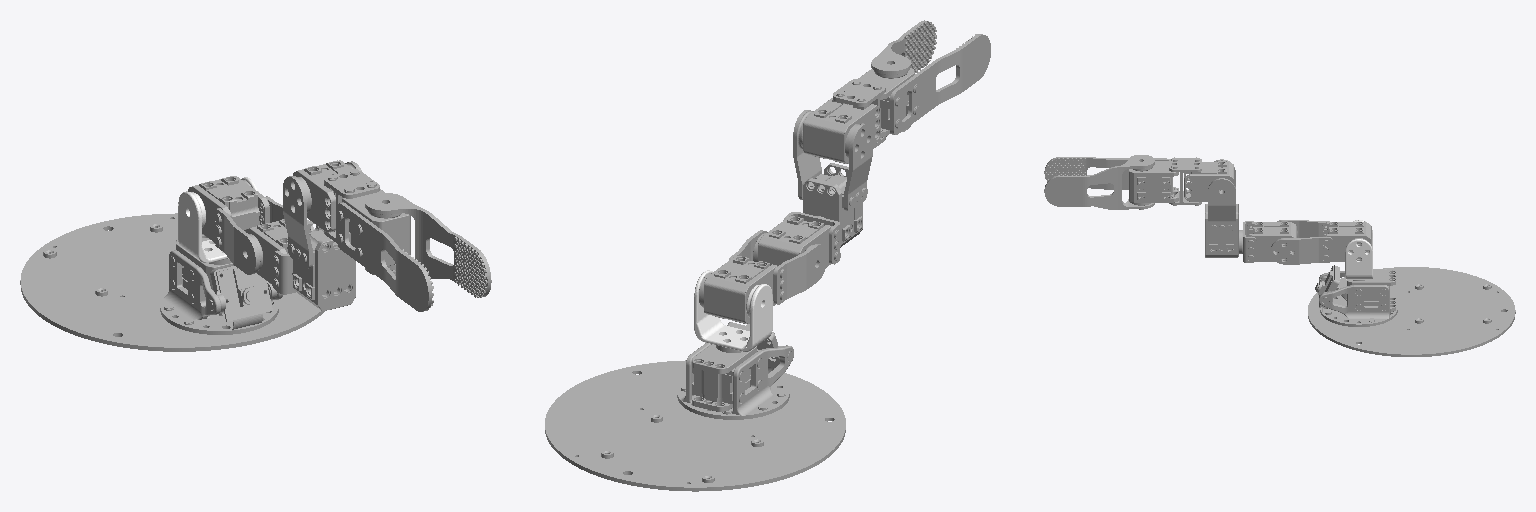
URDF robot description (PoppyErgoJr):
<robot
  name="PoppyErgoJr">
  <link
    name="base_link">
    <visual>
      <origin
        xyz="0 0 0"
        rpy="0 0 0" />
      <geometry>
        <mesh
          filename="package://poppy_ergo_jr_description/meshes/base.dae" />
      </geometry>
      <material
        name="">
        <color
          rgba="0.752941176470588 0.752941176470588 0.752941176470588 1" />
      </material>
    </visual>
    <collision>
      <origin
        xyz="0 0 0"
        rpy="0 0 0" />
      <geometry>
        <mesh
          filename="package://poppy_ergo_jr_description/meshes/base.dae" />
      </geometry>
    </collision>
  </link>
  <link
    name="long_U">
    <inertial>
      <origin
        xyz="-0.00243058056226709 1.14505937431452E-07 0.0129312523306501"
        rpy="0 0 0" />
      <mass
        value="0.0042118228619085" />
      <inertia
        ixx="5.78707668456099E-07"
        ixy="9.44283869977724E-12"
        ixz="-1.13587476220175E-07"
        iyy="1.25420346852677E-06"
        iyz="4.64830147251523E-12"
        izz="9.27174545760678E-07" />
    </inertial>
    <visual>
      <origin
        xyz="0 0 0"
        rpy="0 0 0" />
      <geometry>
        <mesh
          filename="package://poppy_ergo_jr_description/meshes/long_U.dae" />
      </geometry>
      <material
        name="">
        <color
          rgba="1 1 1 1" />
      </material>
    </visual>
    <collision>
      <origin
        xyz="0 0 0"
        rpy="0 0 0" />
      <geometry>
        <mesh
          filename="package://poppy_ergo_jr_description/meshes/long_U.dae" />
      </geometry>
    </collision>
  </link>
  <joint
    name="m1"
    type="continuous">
    <origin
      xyz="0 0 0.0327993216120967"
      rpy="-6.12303176911189E-17 0 0" />
    <parent
      link="base_link" />
    <child
      link="long_U" />
    <axis
      xyz="0 0 1" />
  </joint>
  <link
    name="section_1">
    <inertial>
      <origin
        xyz="-0.000168296047337745 0.013441283142678 -3.36410230095056E-09"
        rpy="0 0 0" />
      <mass
        value="0.0201321844066136" />
      <inertia
        ixx="6.51960684491032E-06"
        ixy="-5.35361387413197E-07"
        ixz="-5.67167110473808E-13"
        iyy="2.37206686086462E-06"
        iyz="-1.07202400036876E-12"
        izz="7.46616268702629E-06" />
    </inertial>
    <visual>
      <origin
        xyz="0 0 0"
        rpy="0 0 0" />
      <geometry>
        <mesh
          filename="package://poppy_ergo_jr_description/meshes/section_1.dae" />
      </geometry>
      <material
        name="">
        <color
          rgba="0.752941176470588 0.752941176470588 0.752941176470588 1" />
      </material>
    </visual>
    <collision>
      <origin
        xyz="0 0 0"
        rpy="0 0 0" />
      <geometry>
        <mesh
          filename="package://poppy_ergo_jr_description/meshes/section_1.dae" />
      </geometry>
    </collision>
  </link>
  <joint
    name="m2"
    type="continuous">
    <origin
      xyz="0 0 0.0240006783879033"
      rpy="1.5707963267949 0 0" />
    <parent
      link="long_U" />
    <child
      link="section_1" />
    <axis
      xyz="1 0 0" />
  </joint>
  <link
    name="section_2">
    <inertial>
      <origin
        xyz="0.000407772974186014 0.00840914919415664 -1.07672250595912E-09"
        rpy="0 0 0" />
      <mass
        value="0.017821725151696" />
      <inertia
        ixx="2.52304488643742E-06"
        ixy="-6.63873566658207E-08"
        ixz="-2.02107710451767E-13"
        iyy="1.64177128414312E-06"
        iyz="3.46919494425175E-13"
        izz="2.86561030339994E-06" />
    </inertial>
    <visual>
      <origin
        xyz="0 0 0"
        rpy="0 0 0" />
      <geometry>
        <mesh
          filename="package://poppy_ergo_jr_description/meshes/section_2.dae" />
      </geometry>
      <material
        name="">
        <color
          rgba="0.752941176470588 0.752941176470588 0.752941176470588 1" />
      </material>
    </visual>
    <collision>
      <origin
        xyz="0 0 0"
        rpy="0 0 0" />
      <geometry>
        <mesh
          filename="package://poppy_ergo_jr_description/meshes/section_2.dae" />
      </geometry>
    </collision>
  </link>
  <joint
    name="m3"
    type="continuous">
    <origin
      xyz="0 0 0.054"
      rpy="0 0 0" />
    <parent
      link="section_1" />
    <child
      link="section_2" />
    <axis
      xyz="1 0 0" />
  </joint>
  <link
    name="section_3">
    <inertial>
      <origin
        xyz="-0.000529269977744151 -0.0148172531686623 -0.0123545994437081"
        rpy="0 0 0" />
      <mass
        value="0.0201321844066136" />
      <inertia
        ixx="5.58716321477767E-06"
        ixy="3.84615911021611E-09"
        ixz="3.80051502924447E-07"
        iyy="6.00831891375732E-06"
        iyz="9.50610838817802E-08"
        izz="2.36437426368354E-06" />
    </inertial>
    <visual>
      <origin
        xyz="0 0 0"
        rpy="0 0 0" />
      <geometry>
        <mesh
          filename="package://poppy_ergo_jr_description/meshes/section_3.dae" />
      </geometry>
      <material
        name="">
        <color
          rgba="0.752941176470588 0.752941176470588 0.752941176470588 1" />
      </material>
    </visual>
    <collision>
      <origin
        xyz="0 0 0"
        rpy="0 0 0" />
      <geometry>
        <mesh
          filename="package://poppy_ergo_jr_description/meshes/section_3.dae" />
      </geometry>
    </collision>
  </link>
  <joint
    name="m4"
    type="continuous">
    <origin
      xyz="0 0 0.045"
      rpy="0 0 3.14159265358979" />
    <parent
      link="section_2" />
    <child
      link="section_3" />
    <axis
      xyz="0 0 1" />
  </joint>
  <link
    name="section_4">
    <inertial>
      <origin
        xyz="-0.000168296047337745 0.013441283142678 -3.36410227452788E-09"
        rpy="0 0 0" />
      <mass
        value="0.0201321844066137" />
      <inertia
        ixx="6.51960684491033E-06"
        ixy="-5.3536138741319E-07"
        ixz="-5.67167109549002E-13"
        iyy="2.37206686086462E-06"
        iyz="-1.07202399874137E-12"
        izz="7.46616268702631E-06" />
    </inertial>
    <visual>
      <origin
        xyz="0 -0.058 0"
        rpy="0 0 0" />
      <geometry>
        <mesh
          filename="package://poppy_ergo_jr_description/meshes/section_4.dae" />
      </geometry>
      <material
        name="">
        <color
          rgba="0.752941176470588 0.752941176470588 0.752941176470588 1" />
      </material>
    </visual>
    <collision>
      <origin
        xyz="0 0 0"
        rpy="0 0 0" />
      <geometry>
        <mesh
          filename="package://poppy_ergo_jr_description/meshes/section_4.dae" />
      </geometry>
    </collision>
  </link>
  <joint
    name="m5"
    type="continuous">
    <origin
      xyz="0 -0.048 0"
      rpy="-1.5707963267949 0 0" />
    <parent
      link="section_3" />
    <child
      link="section_4" />
    <axis
      xyz="1 0 0" />
  </joint>
  <link
    name="tip">
    <inertial>
      <origin
        xyz="0 0.05 0"
        rpy="0 0 0" />
      <mass
        value="0.0164859649700598" />
      <inertia
        ixx="2.21073012081829E-06"
        ixy="2.00704445336612E-13"
        ixz="2.61313974888777E-13"
        iyy="1.95245657563094E-06"
        iyz="5.52468772381494E-08"
        izz="1.46932588043522E-06" />
    </inertial>
    <visual>
      <origin
        xyz="0 0 0"
        rpy="0 0 0" />
      <geometry>
        <mesh
          filename="package://poppy_ergo_jr_description/meshes/gripper.dae" />
      </geometry>
      <material
        name="">
        <color
          rgba="0.752941176470588 0.752941176470588 0.752941176470588 1" />
      </material>
    </visual>
    <collision>
      <origin
        xyz="0 0 0"
        rpy="0 0 0" />
      <geometry>
        <mesh
          filename="package://poppy_ergo_jr_description/meshes/gripper.dae" />
      </geometry>
    </collision>
  </link>
  <joint
    name="m6"
    type="continuous">
    <origin
      xyz="0 -0.058 0"
      rpy="0 0 0" />
    <parent
      link="section_4" />
    <child
      link="tip" />
    <axis
      xyz="0 0 1" />
  </joint>
</robot>


--- Render facts (derived) ---
3 views of the same robot in one strip: view 1: azimuth 30°, elevation 25°; view 2: azimuth 150°, elevation 25°; view 3: azimuth 270°, elevation 25° (orthographic).
Robot: PoppyErgoJr — 7 links, 6 joints (6 continuous); root link base_link; default pose: all joints at 0.
Visible links, largest first — view 1: base_link, section_4, section_3, section_1, tip, section_2, long_U; view 2: base_link, section_4, section_1, section_3, section_2, long_U, tip; view 3: base_link, section_4, section_1, tip, section_3, section_2, long_U.
Link boxes in pixels (bbox=[...]): base_link: bbox=[20, 213, 324, 351]; section_4: bbox=[293, 160, 433, 311]; section_3: bbox=[283, 161, 361, 310]; section_1: bbox=[188, 176, 314, 274]; tip: bbox=[365, 193, 491, 297]; section_2: bbox=[246, 219, 295, 294]; long_U: bbox=[178, 177, 258, 262]; base_link: bbox=[545, 322, 845, 491]; section_4: bbox=[803, 34, 990, 163]; section_1: bbox=[699, 230, 826, 323]; section_3: bbox=[793, 110, 872, 247]; section_2: bbox=[753, 212, 840, 267]; long_U: bbox=[694, 270, 772, 351]; tip: bbox=[871, 20, 936, 131]; base_link: bbox=[1308, 265, 1515, 356]; section_4: bbox=[1044, 157, 1233, 205]; section_1: bbox=[1271, 220, 1371, 264]; tip: bbox=[1044, 155, 1154, 209]; section_3: bbox=[1205, 159, 1242, 257]; section_2: bbox=[1243, 221, 1296, 262]; long_U: bbox=[1345, 220, 1372, 279].
Size in the robot's own frame: 0.15 by 0.3399 by 0.1229 metres.
7 mesh visuals loaded from 7 distinct referenced files (7 Collada DAE).